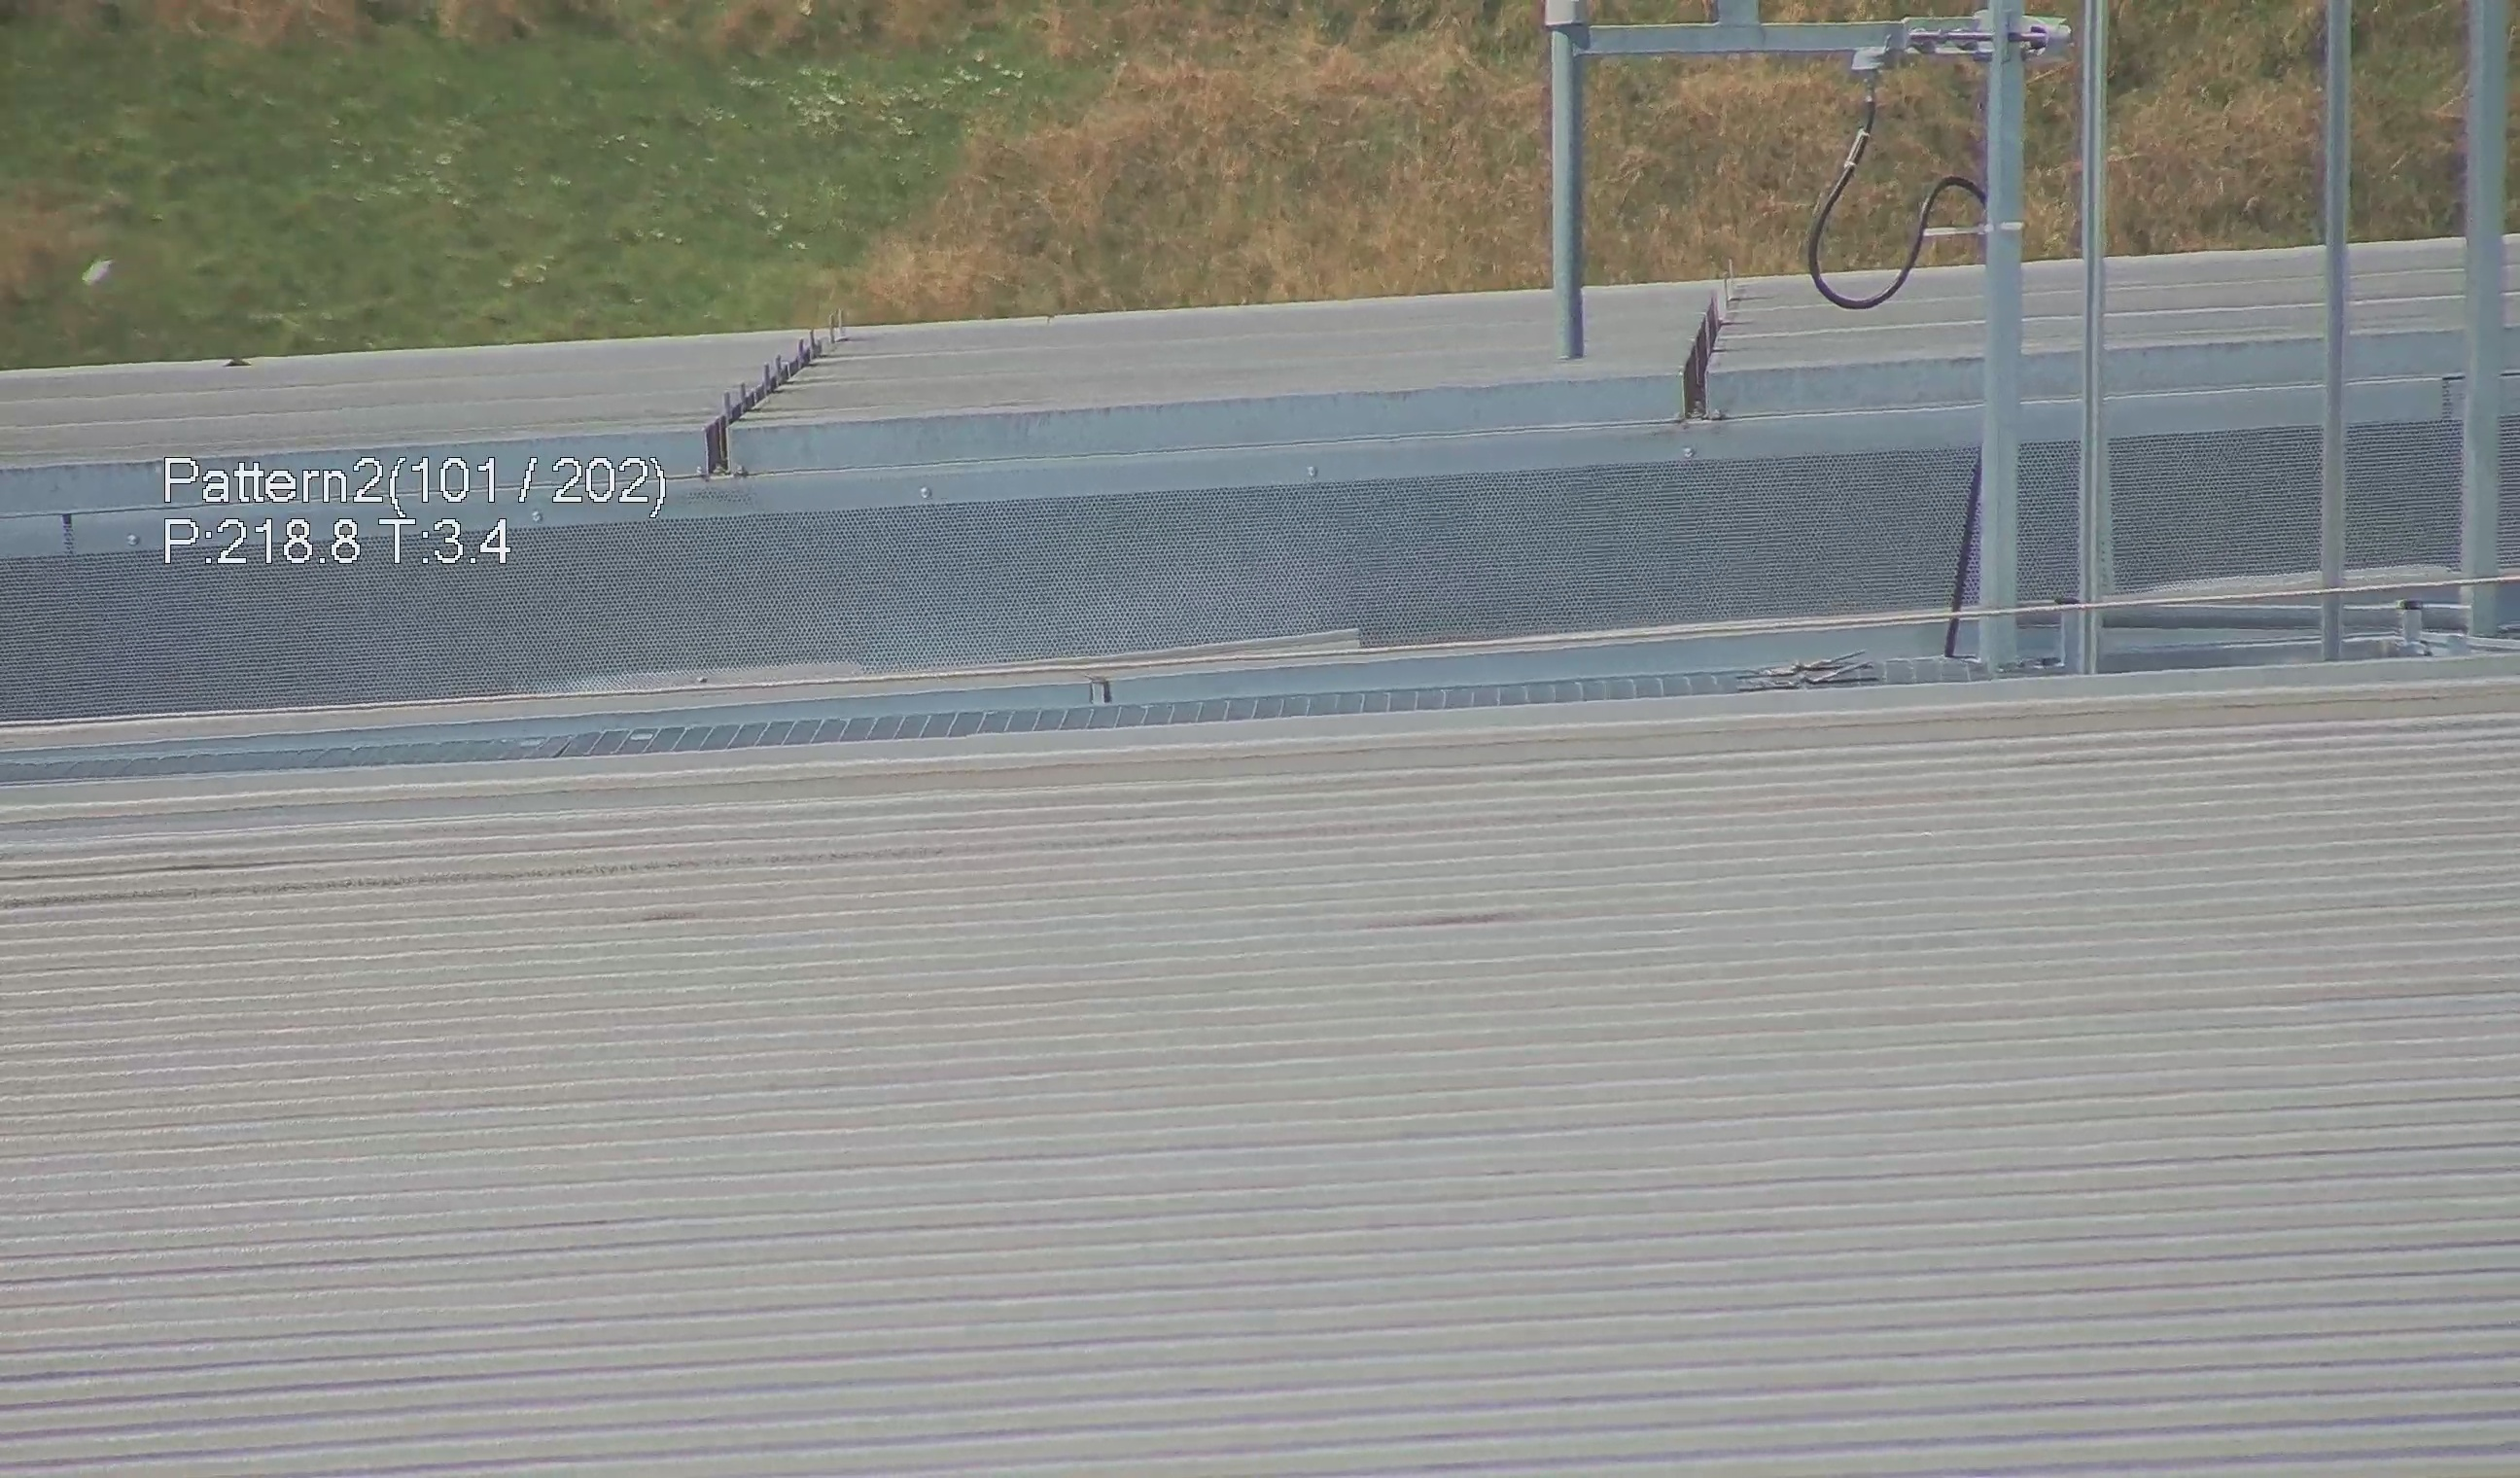Other: (1676, 274, 1753, 424)
